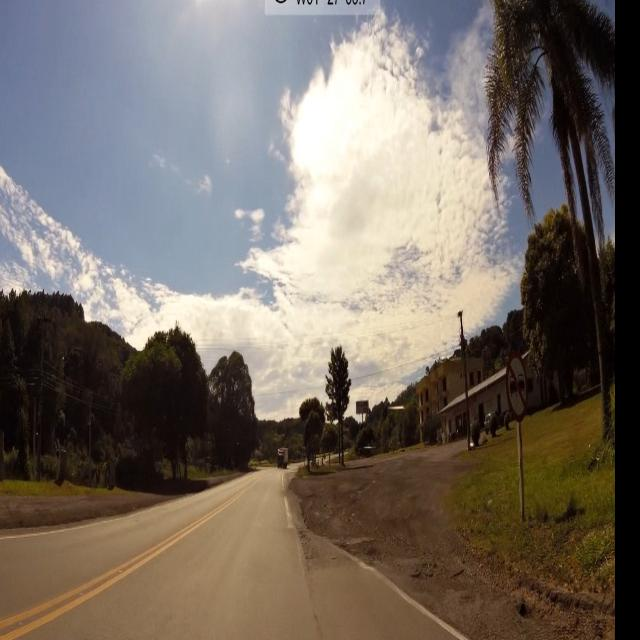R-7: (502, 352, 534, 429)
